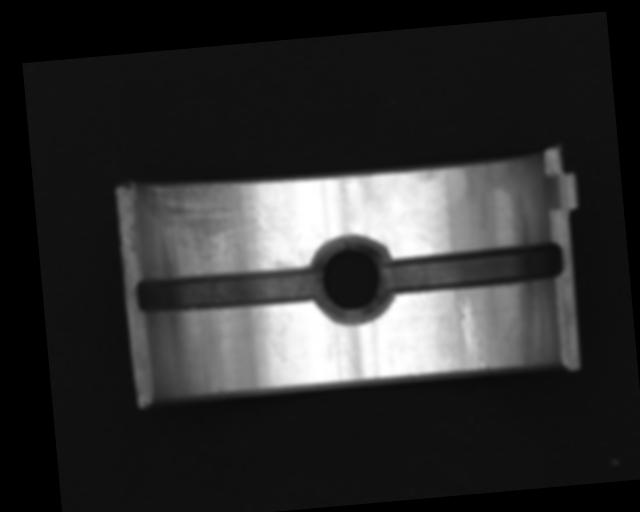gap: (136, 263, 321, 318), (384, 241, 565, 295)
hole: (307, 233, 397, 324)
nick: (456, 295, 487, 372)
scratch: (140, 169, 289, 281)
